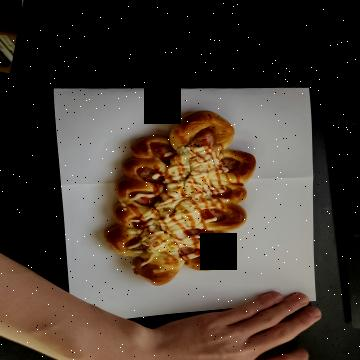pizza_bread: (100, 108, 274, 262)
